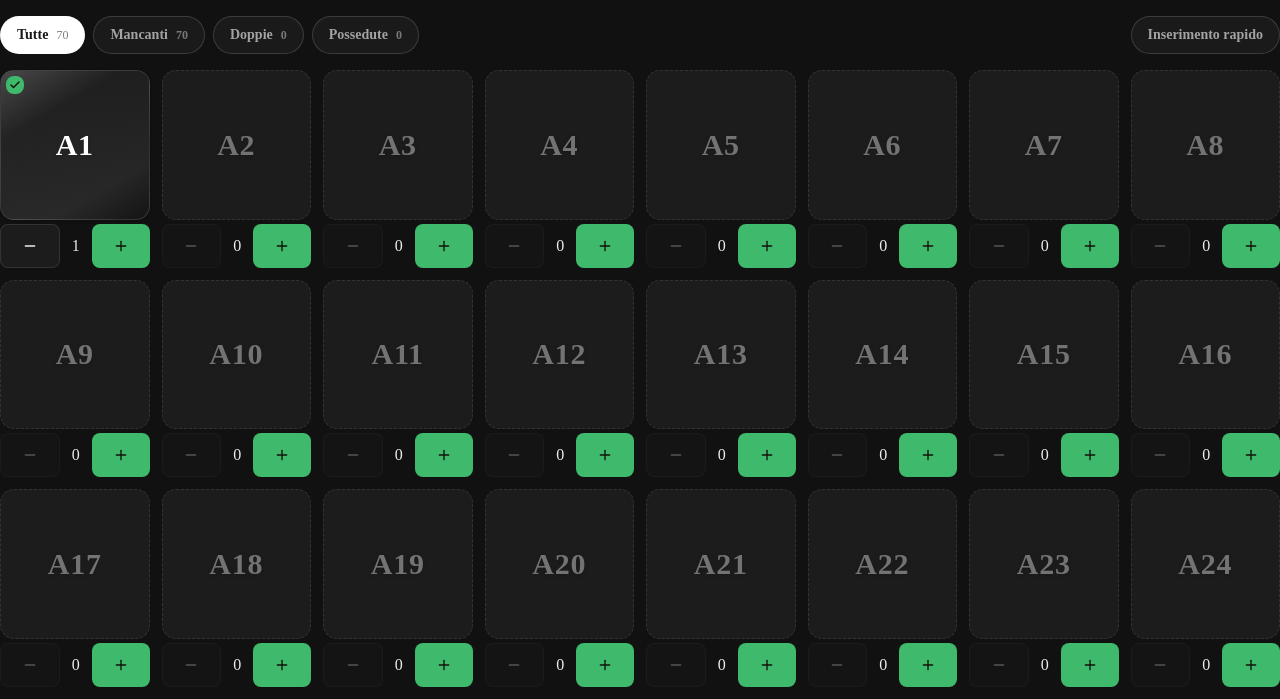
Test case: AlbumFlatView › filtro Possedute riduce alle carte con count>=1 e resetta a pagina 1
This screenshot has width=1280, height=699.
Step 1. Click the button "Possedute 0" → (365,35), box [312, 16, 419, 54]
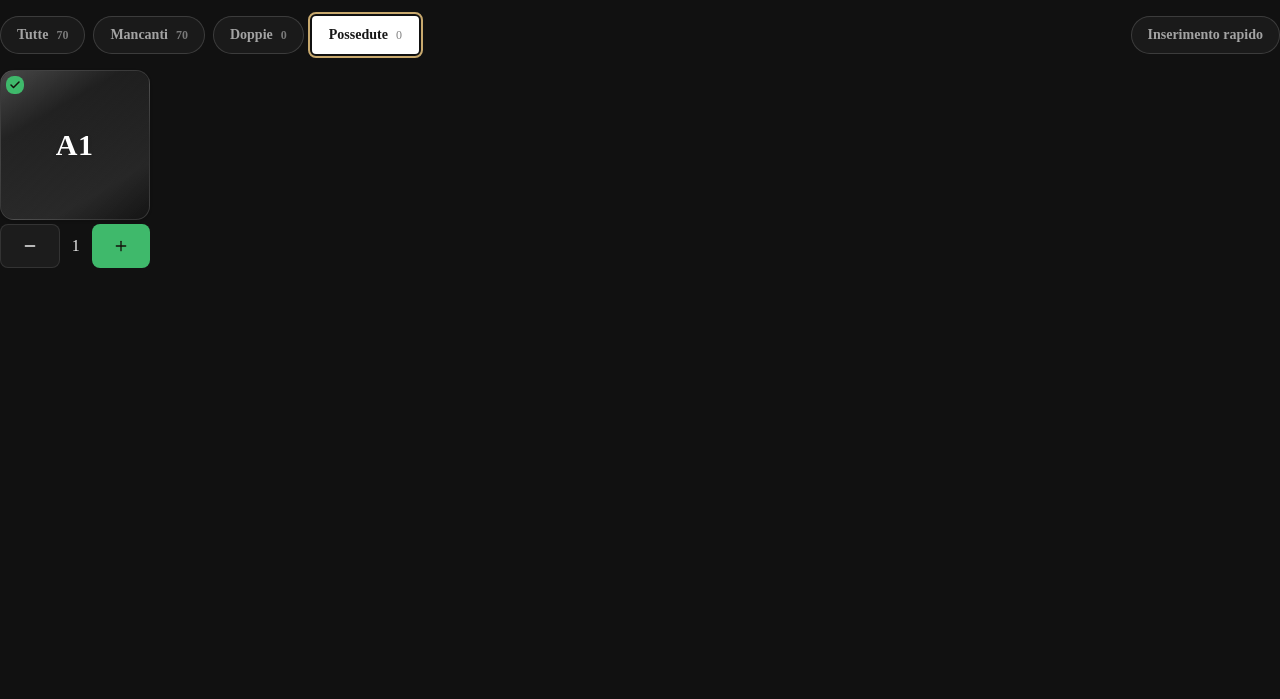
Expected: the button "A1" is shown, [0, 70, 150, 220]
Result: the button "A2" is gone
